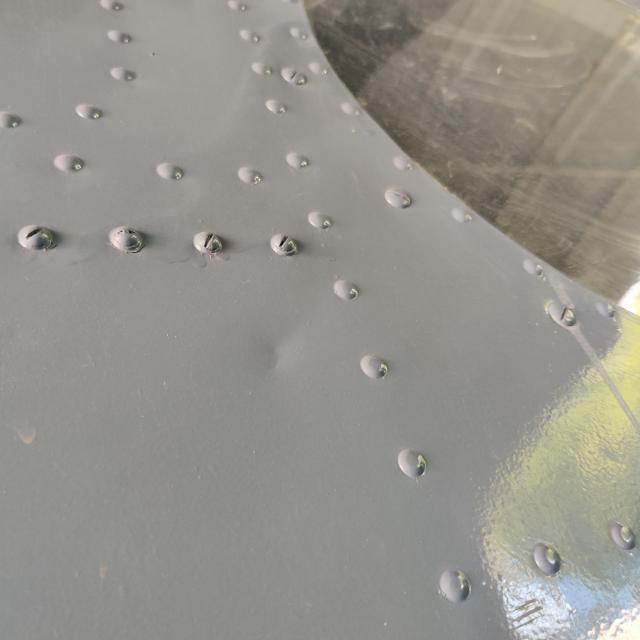dent: (245, 326, 308, 391)
